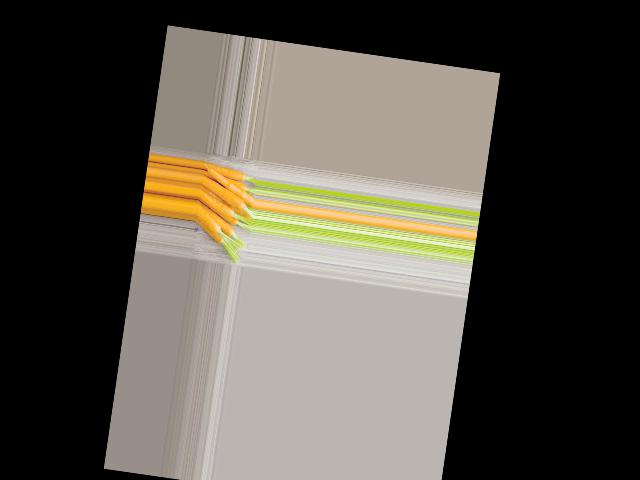carrot: (194, 207, 245, 238)
